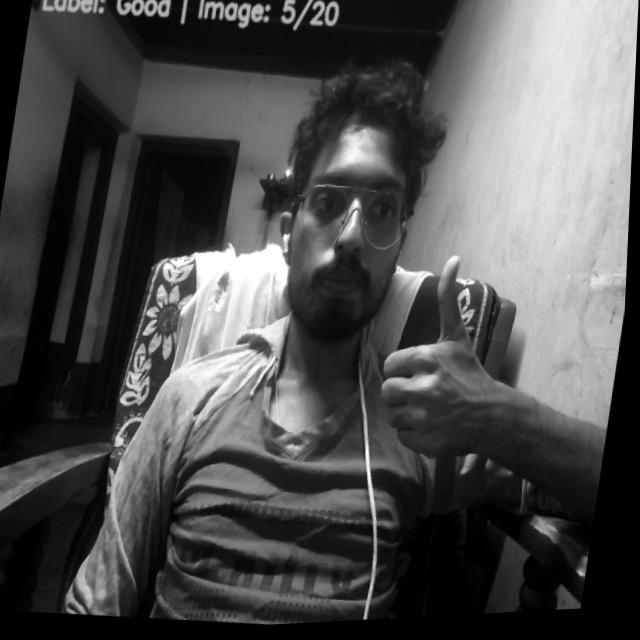Good: (371, 248, 513, 473)
